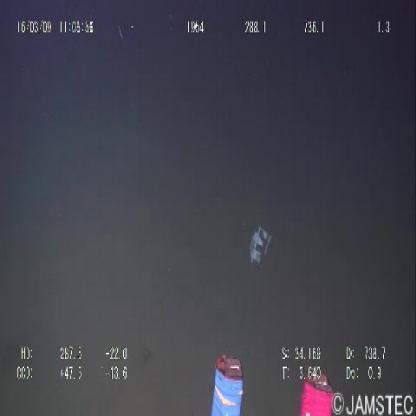Rov: (204, 342, 338, 414)
Rác: (244, 220, 275, 270)
